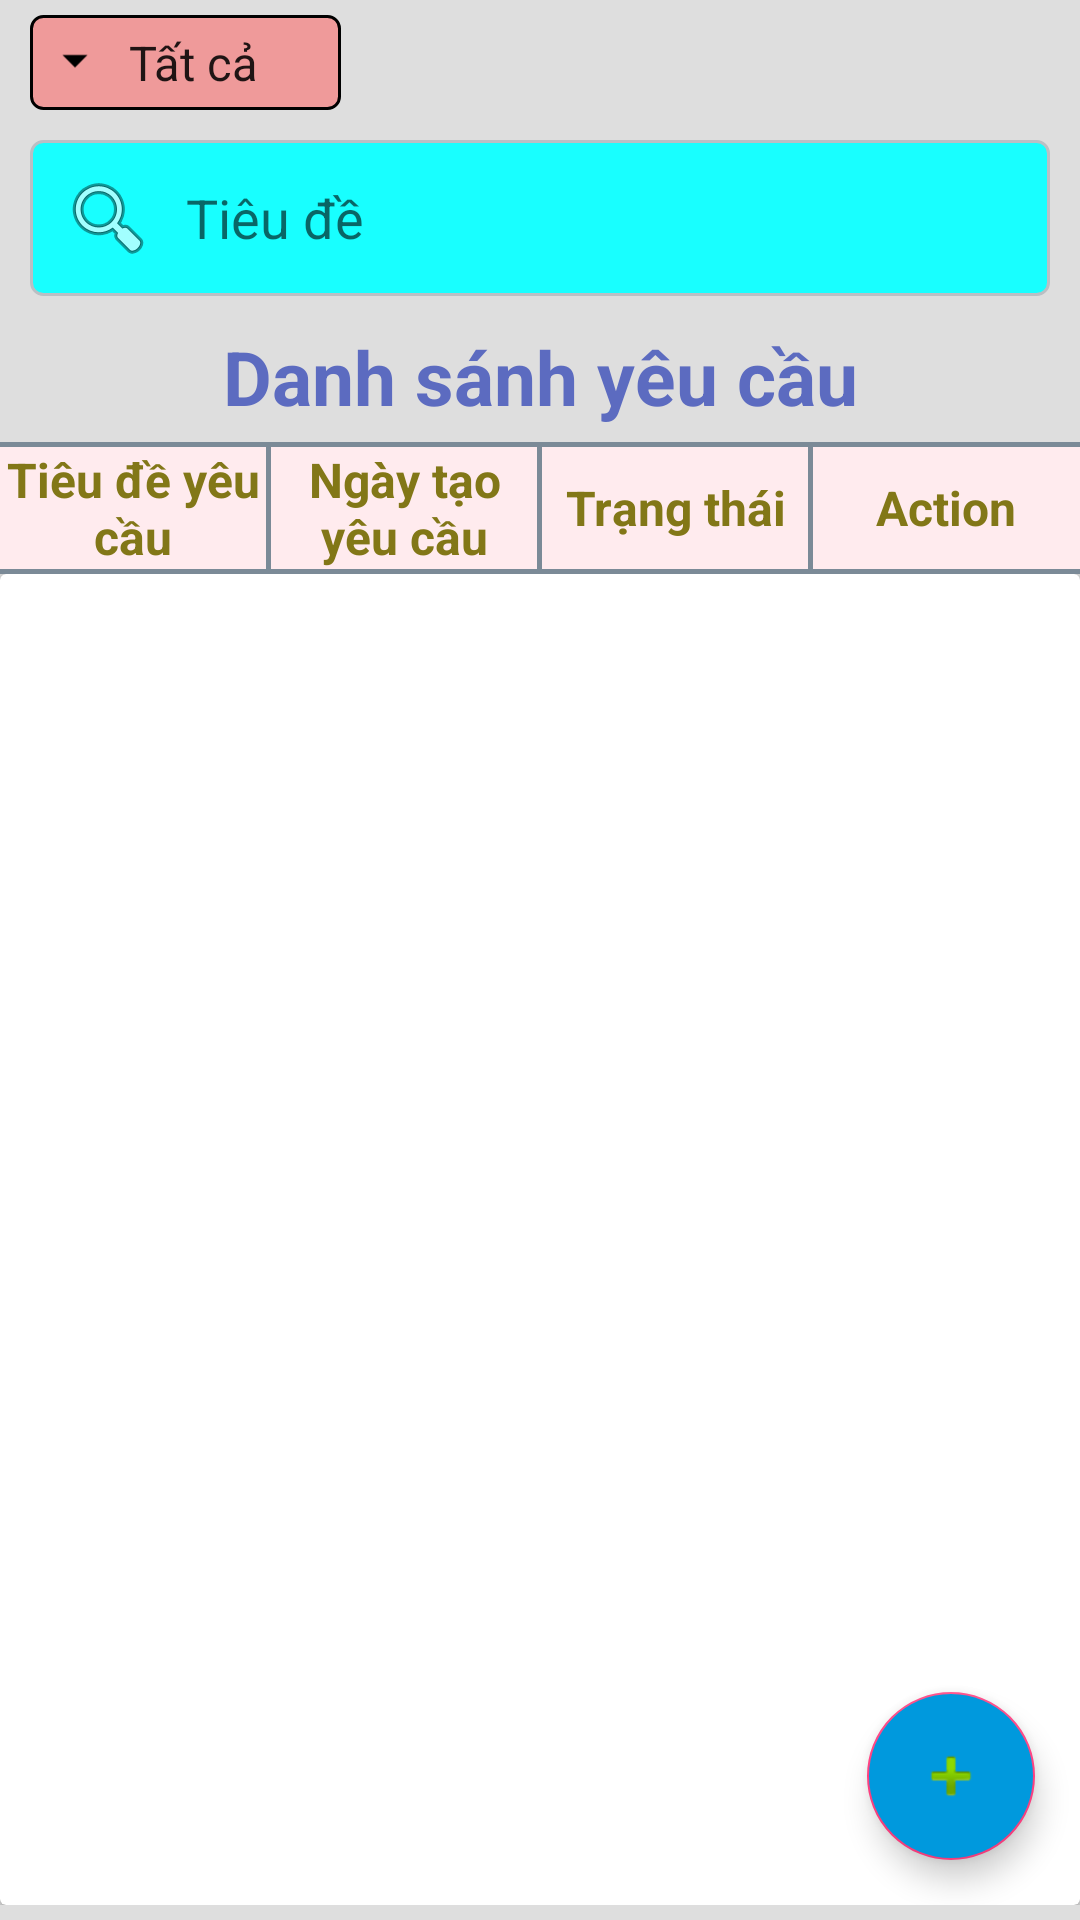

Icons on this 1080 × 1920 Android screen, each with the point to tap as (x=x, y=y):
add: (x=951, y=1776)
drop down: (x=75, y=61)
